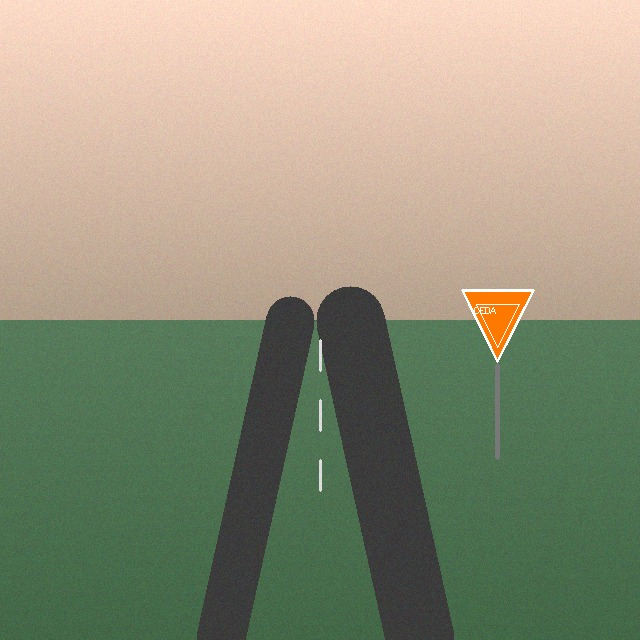ceda_el_paso: (458, 286, 537, 365)
